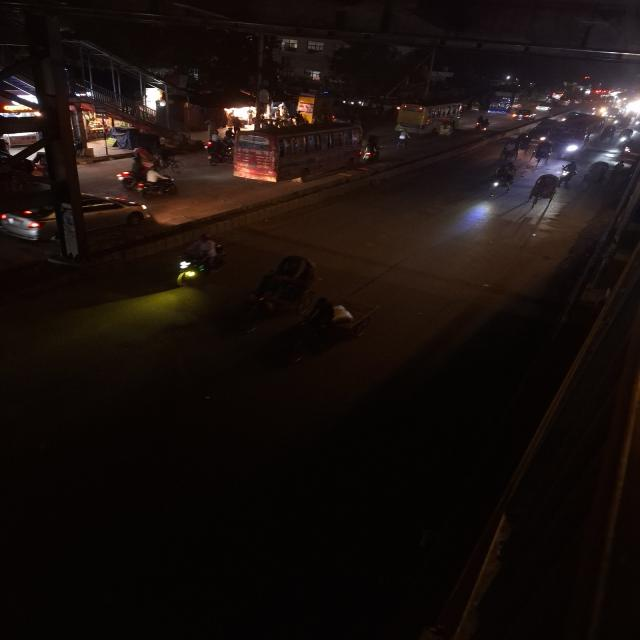bicycle: (391, 128, 411, 153)
bus: (229, 121, 365, 187), (548, 118, 606, 158), (394, 101, 464, 132), (485, 93, 518, 113)
car: (511, 108, 537, 120)
motorcycle: (169, 232, 231, 287), (117, 166, 180, 198), (486, 164, 518, 198), (199, 136, 233, 166), (359, 136, 382, 164), (473, 116, 493, 132)
pedestrian: (615, 158, 625, 181)
rickshaw: (244, 251, 328, 321), (526, 172, 563, 207), (494, 136, 527, 166), (586, 158, 607, 190), (530, 141, 555, 167), (558, 160, 579, 184)
